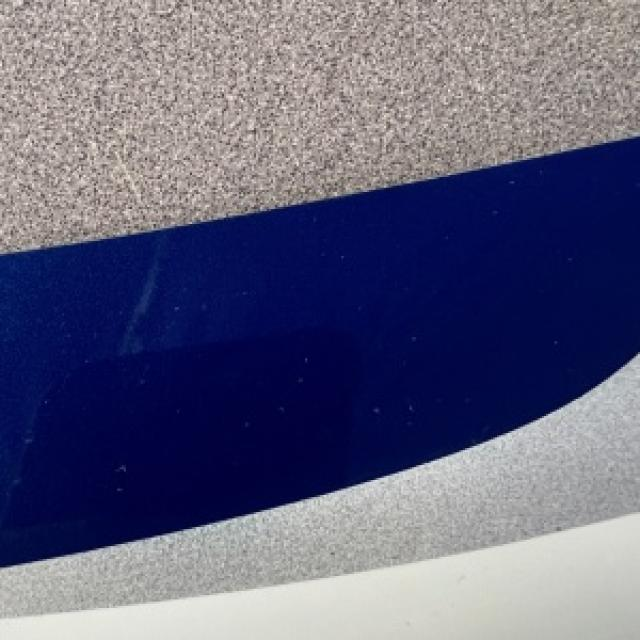healthy: (0, 356, 634, 612), (0, 0, 638, 247)
